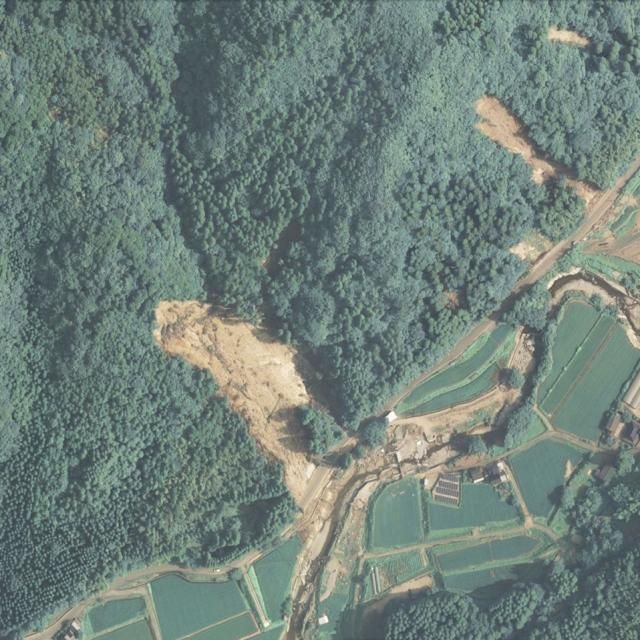landslide: (154, 300, 312, 503), (476, 94, 563, 184), (568, 177, 603, 205)
